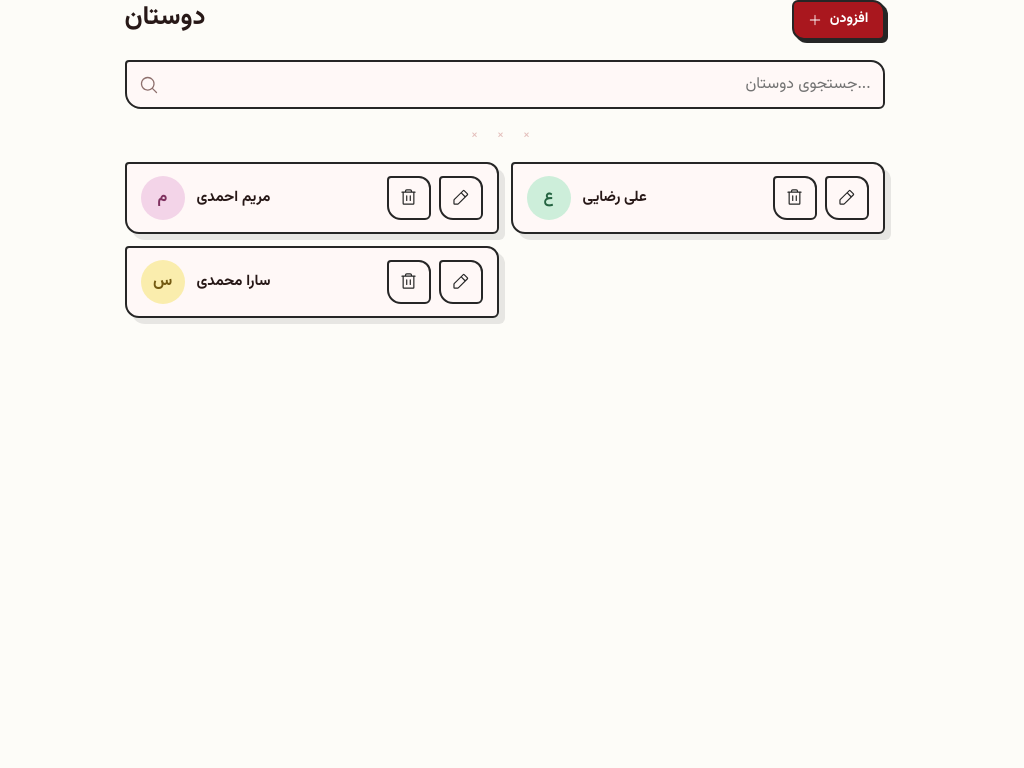
Test: FriendsPage › delete friend › asks for confirmation before deleting
Expected: the text "مریم احمدی" is shown, [196, 186, 270, 209]
Click the button named "حذف مریم احمدی" at (408, 198), box [386, 176, 430, 220]
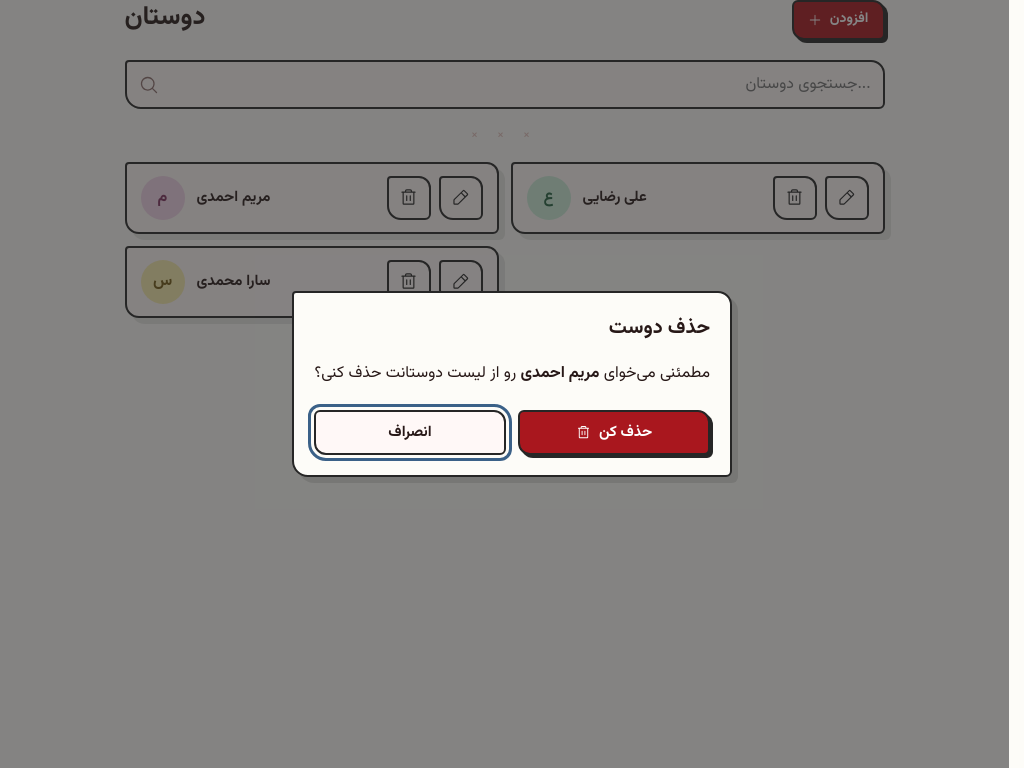
Result: the heading "حذف دوست" is shown at [609, 312, 710, 344]
